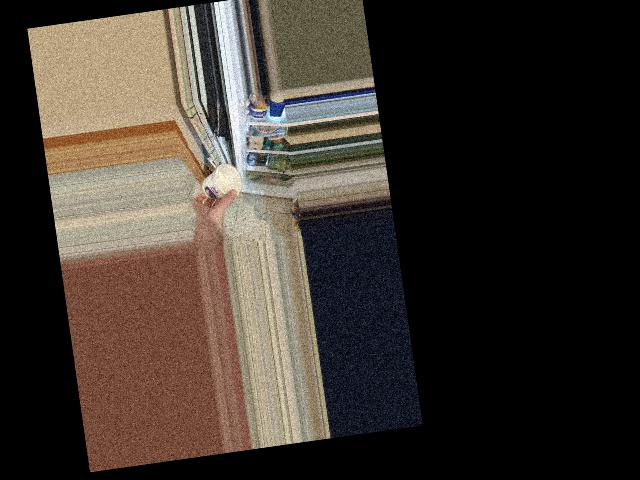cotage: (201, 163, 245, 206)
